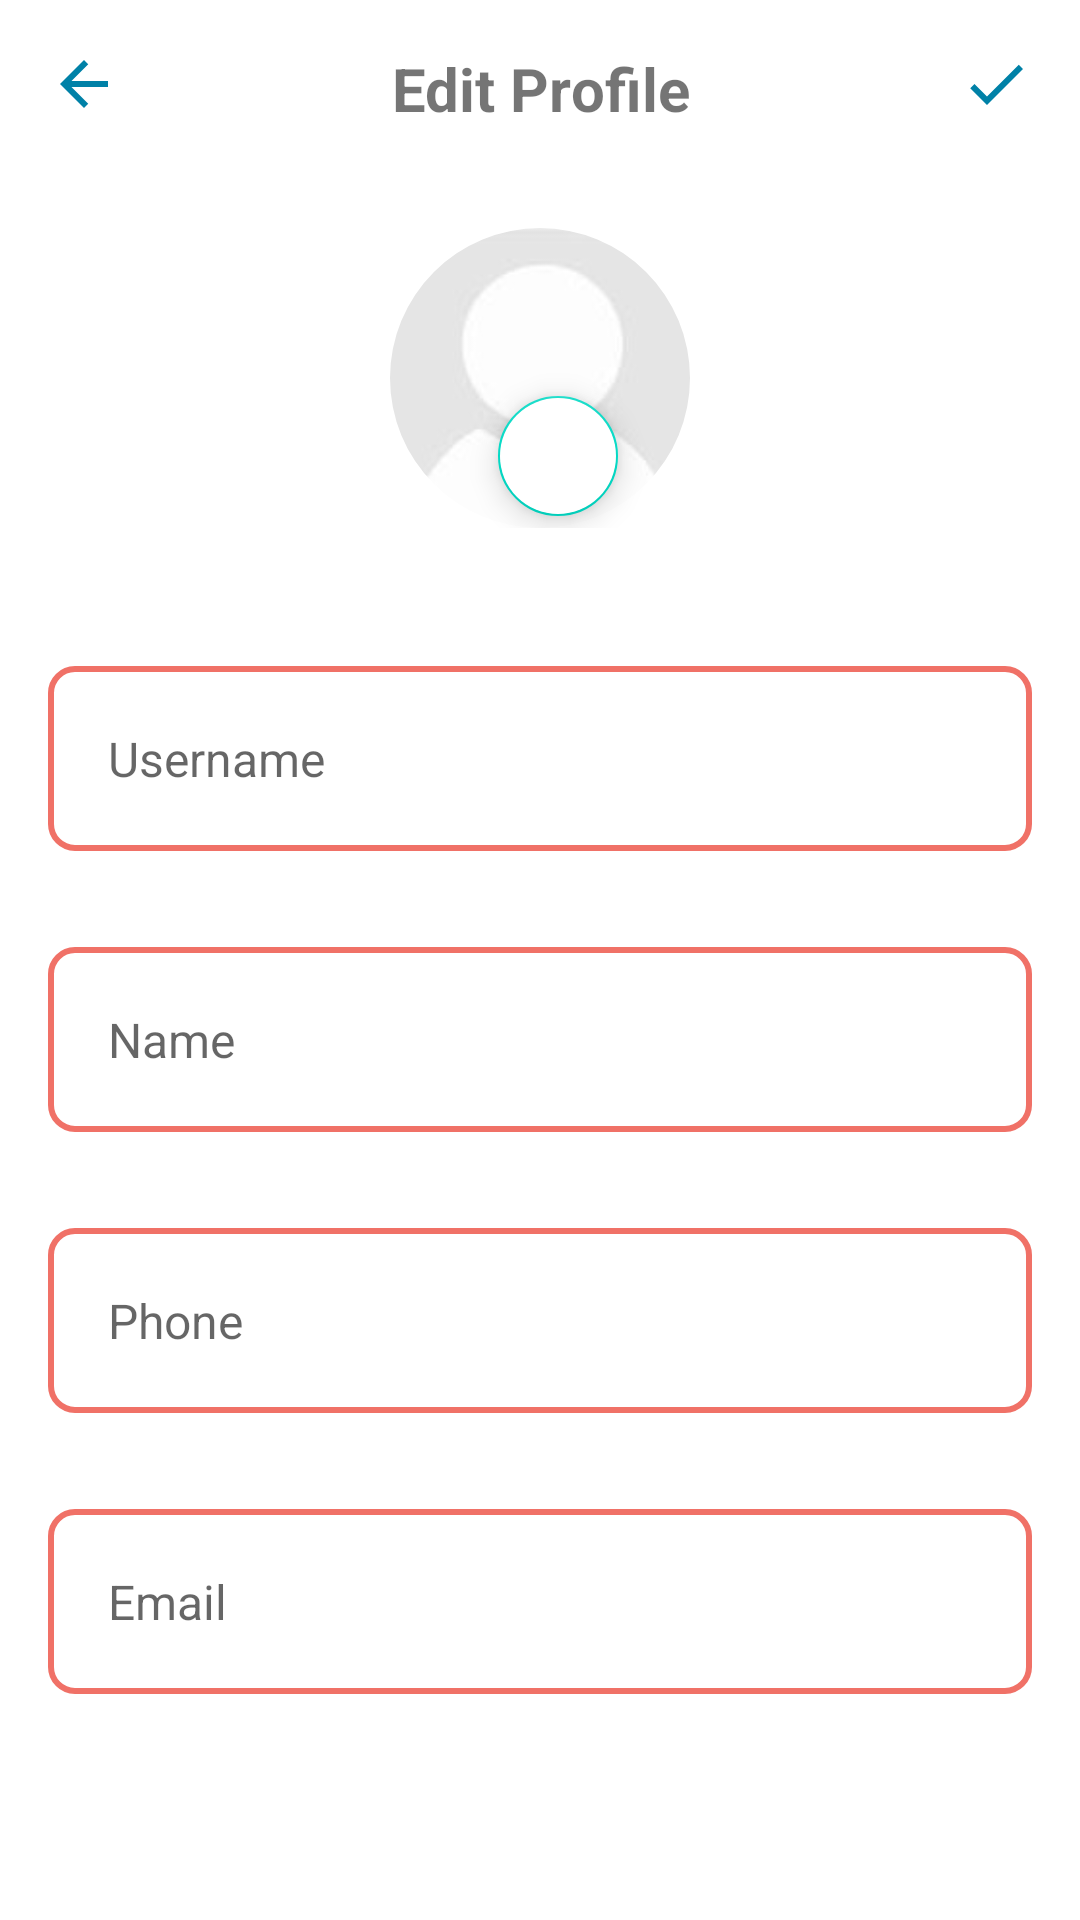

Named icons in this screenshot (1080 x 1920) and their bounding boxes, bbox(x1, y1, x2, y2):
Back: bbox(60, 60, 108, 108)
Done: bbox(970, 65, 1023, 105)
